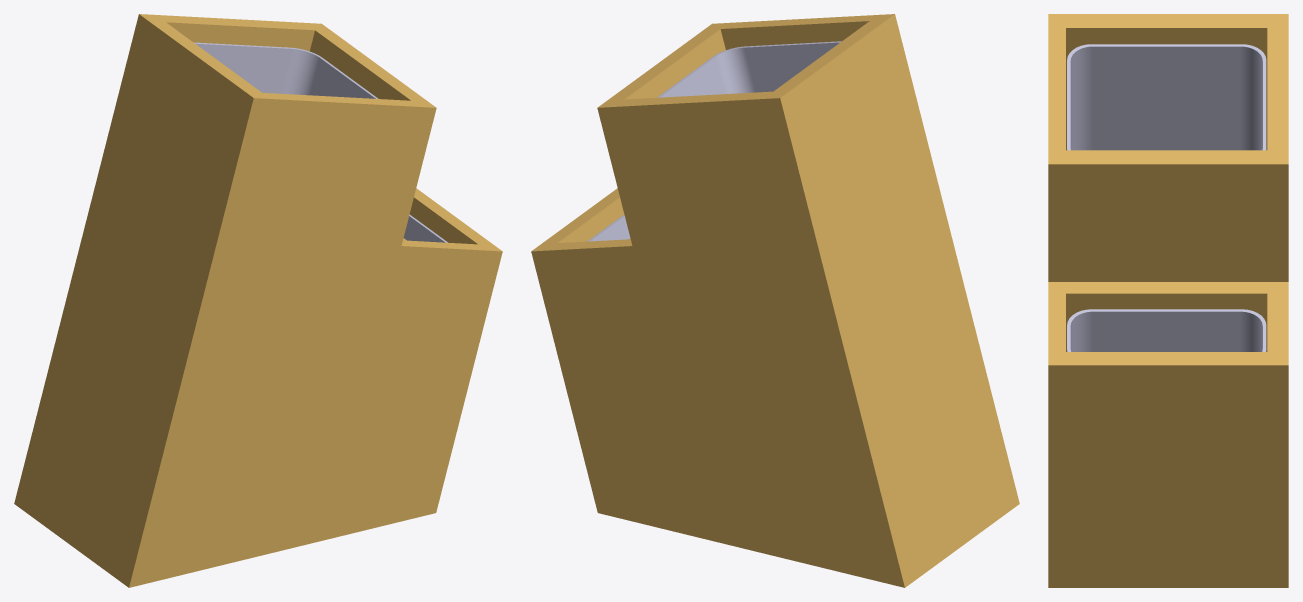
The model's file is Knife_Holder_Flower_Pot.glb.
The picture shows the model from 3 angles, left to right: view 1: azimuth 30°, elevation 25°; view 2: azimuth 150°, elevation 25°; view 3: azimuth 270°, elevation 25°; orthographic projection. The views are drawn at different scales.
Parts seen in each view (by area): view 1: Body, Insert_Big, Insert_Small; view 2: Body, Insert_Big; view 3: Body, Insert_Big, Insert_Small.
Part boxes in pixels (<box>): Body: <box>14,14,502,587</box>; Insert_Big: <box>194,42,378,98</box>; Insert_Small: <box>403,214,447,242</box>; Body: <box>531,14,1019,587</box>; Insert_Big: <box>657,41,841,97</box>; Body: <box>1048,14,1288,587</box>; Insert_Big: <box>1067,44,1266,150</box>; Insert_Small: <box>1067,309,1266,351</box>.
Size of the model in its own units: 0.2028 by 0.2382 by 0.108.
